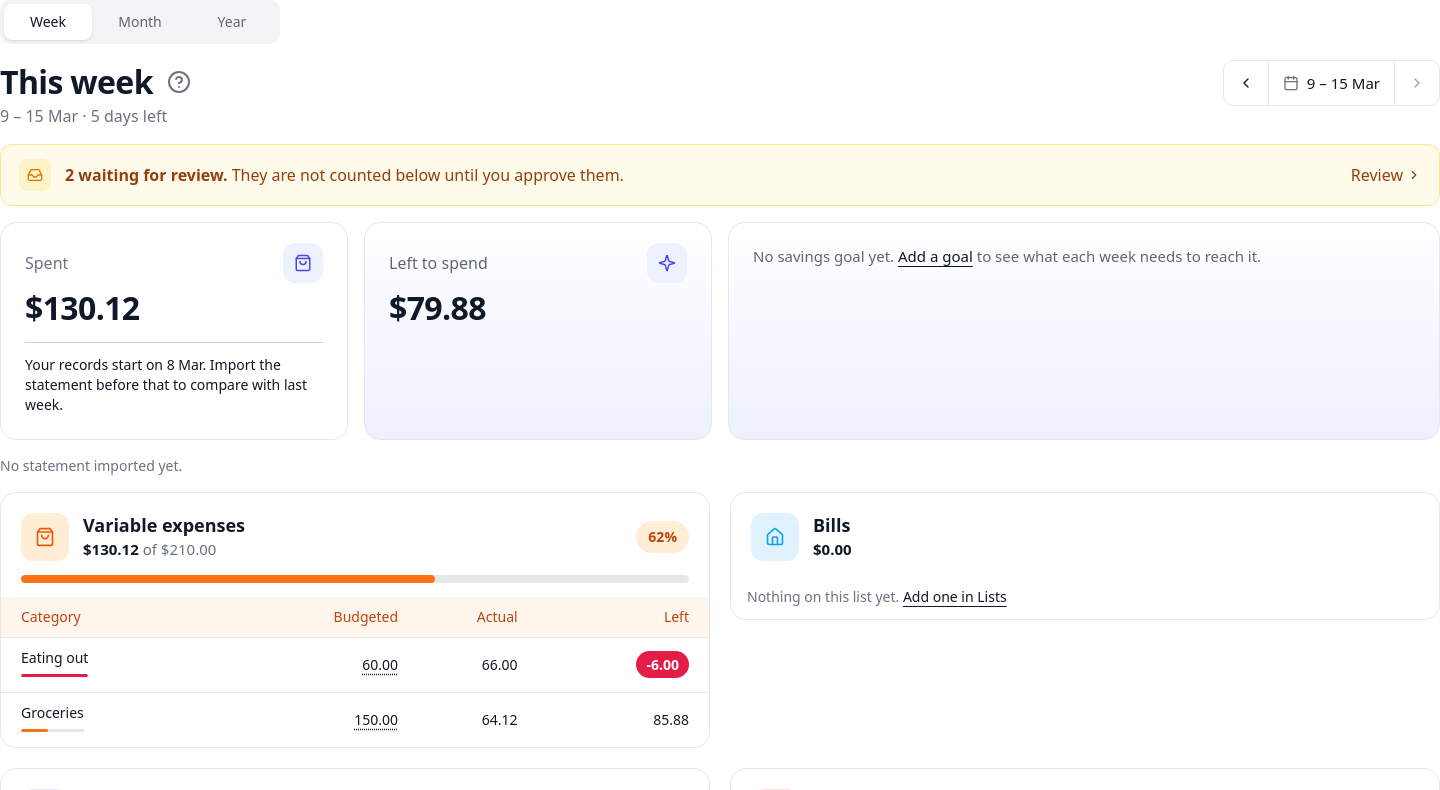
Scenario: WeekScreen, a row opened (N46) › opens the week's charges filed under it, named with the week's dates, each with Move to…
Click the button "Eating out".
click(55, 662)  # box [21,648,88,677]
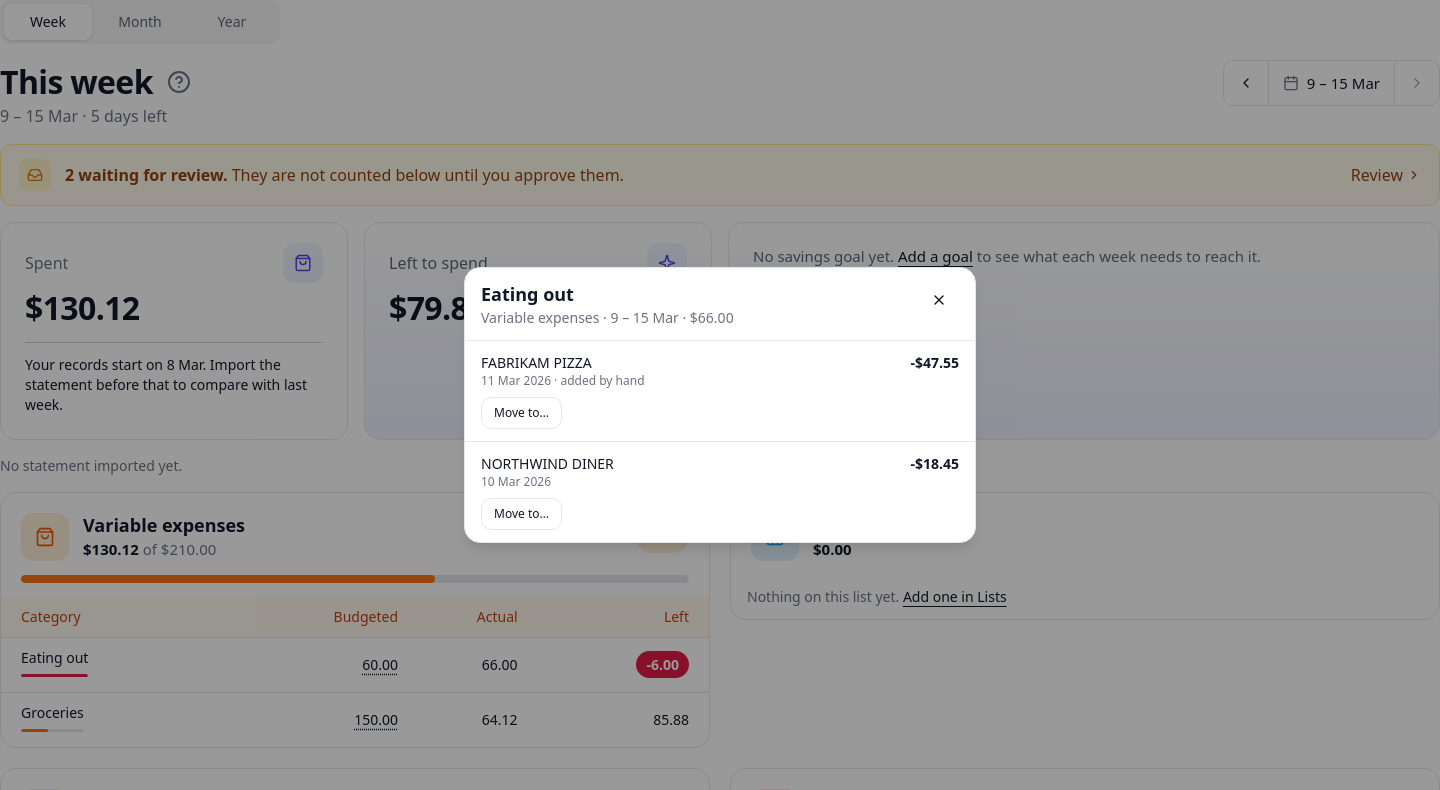
Expected: the text "Variable expenses · 9 – 15 Mar · $66.00" is shown, [481,308,734,327]
Click the button named "Close".
click(939, 300)  # box [919,280,959,320]
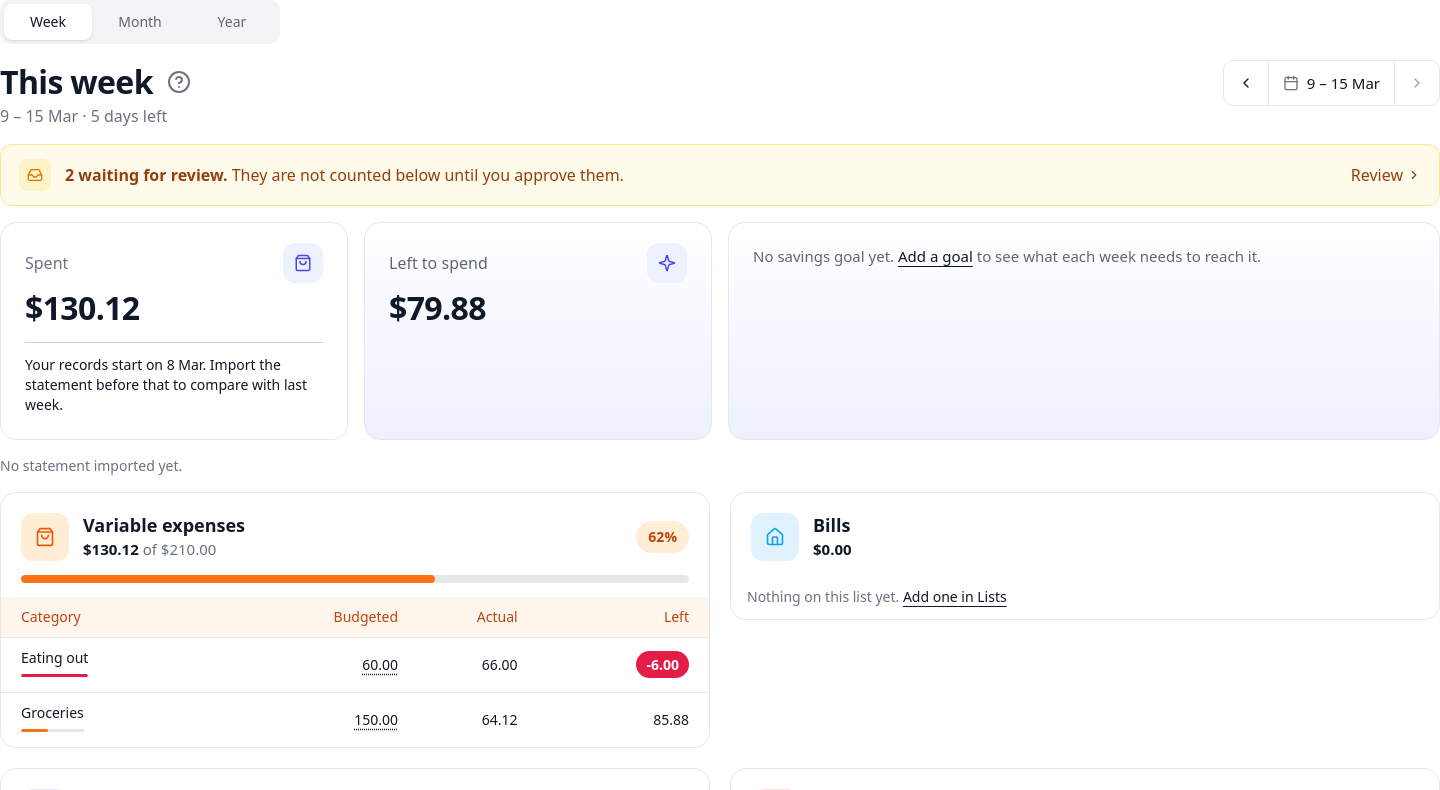
Expected: the dialog is gone
